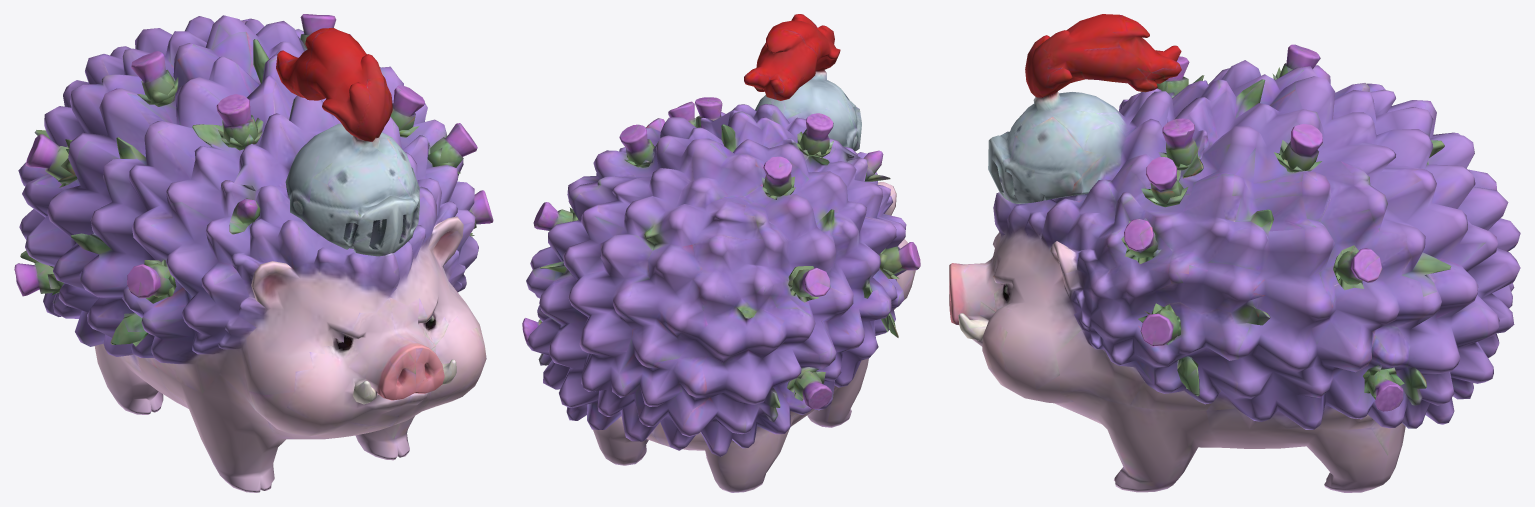
File: thistlehog.glb
The picture shows the model from 3 angles, left to right: view 1: azimuth 30°, elevation 25°; view 2: azimuth 150°, elevation 25°; view 3: azimuth 270°, elevation 25°; orthographic projection. The views are drawn at different scales.
Size of the model in its own units: 0.7085 by 0.8008 by 0.957.
1 material, 1 textured.
